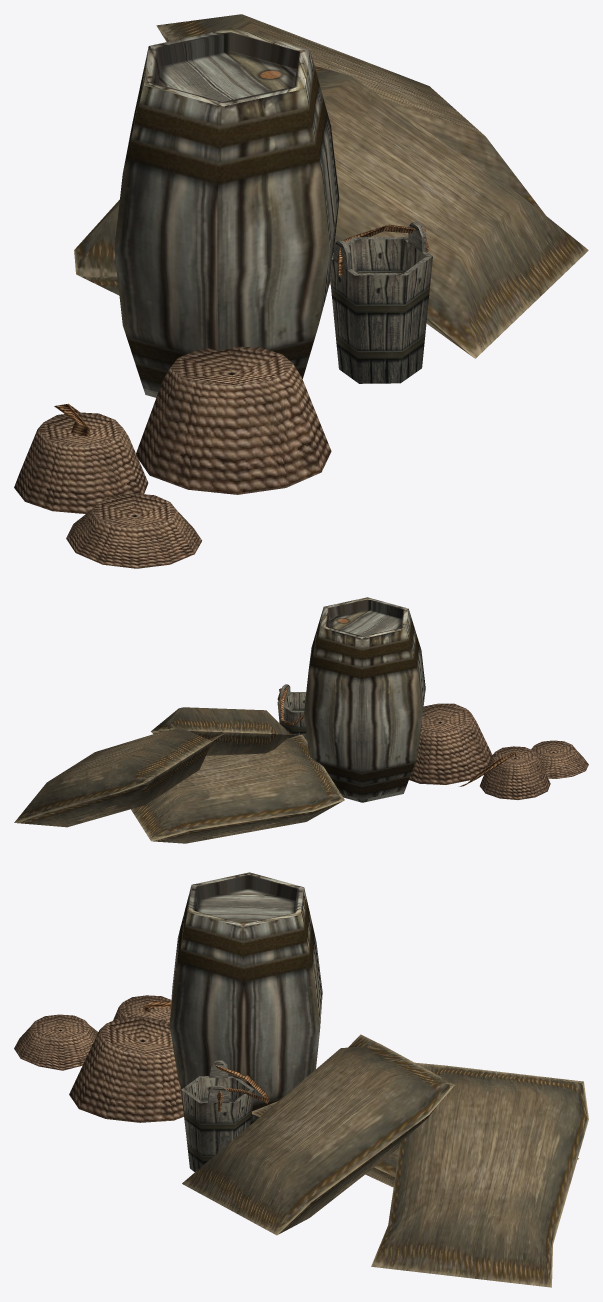
The model's file is prop_group_D.fbx.
3 views of the same model, one above another, from view 1: azimuth 30°, elevation 25°; view 2: azimuth 150°, elevation 25°; view 3: azimuth 270°, elevation 25° (orthographic). The views are drawn at different scales.
Parts seen in each view (by area): view 1: barrel_high, sack_high_a, ropepile_high_d, pasted__bucket_1, pile_1, sack_high_b, ropepile_high_b, sack_high_d; view 2: barrel_high, sack_high_d, sack_high_b, ropepile_high_d, sack_high_a, pile_1, ropepile_high_b, pasted__bucket_1; view 3: sack_high_b, barrel_high, sack_high_a, ropepile_high_d, pasted__bucket_1, ropepile_high_b, pile_1, sack_high_d.
Part boxes in pixels (x1,y1,x2,y2): barrel_high: (114,28,339,397); sack_high_a: (314,65,588,358); ropepile_high_d: (136,346,331,494); pasted__bucket_1: (330,221,432,383); pile_1: (14,412,148,513); sack_high_b: (156,14,545,215); ropepile_high_b: (66,493,201,568); sack_high_d: (74,199,330,295); barrel_high: (304,597,425,802); sack_high_d: (131,734,344,843); sack_high_b: (14,726,224,827); ropepile_high_d: (409,703,492,784); sack_high_a: (151,707,295,755); pile_1: (480,746,550,799); ropepile_high_b: (531,740,588,778); pasted__bucket_1: (277,684,307,741); sack_high_b: (371,1062,588,1287); barrel_high: (169,872,322,1124); sack_high_a: (182,1034,454,1235); ropepile_high_d: (69,1016,183,1122); pasted__bucket_1: (181,1060,254,1171); ropepile_high_b: (14,1014,98,1070); pile_1: (113,995,171,1023); sack_high_d: (252,1101,578,1187).
Size of the model in its own units: 1585 by 700 by 1544.
2 materials, 2 textured.
